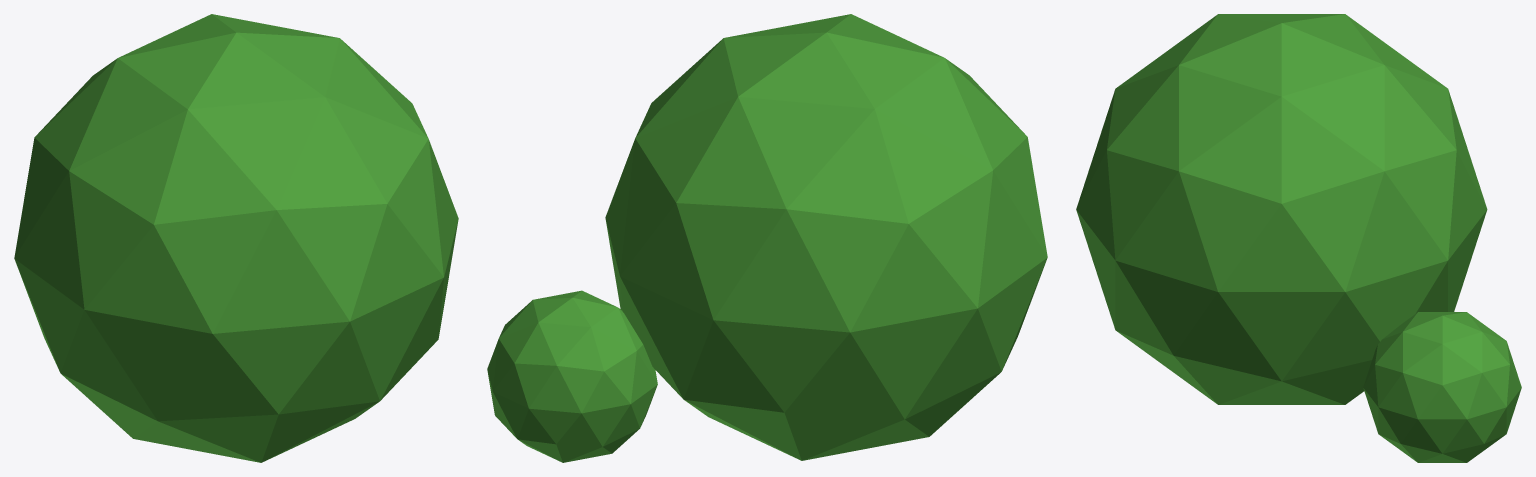
Rendered from Shrub.fbx.
The picture shows the model from 3 angles, left to right: view 1: azimuth 30°, elevation 25°; view 2: azimuth 150°, elevation 25°; view 3: azimuth 270°, elevation 25°; orthographic projection. The views are drawn at different scales.
Visible parts, largest first — view 1: Shrub; view 2: Shrub; view 3: Shrub.
Part boxes in pixels (x1,y1,x2,y2): Shrub: (14,14,458,462); Shrub: (487,14,1047,462); Shrub: (1076,14,1521,462).
Size of the model in its own units: 2.16 by 2 by 2.17.
